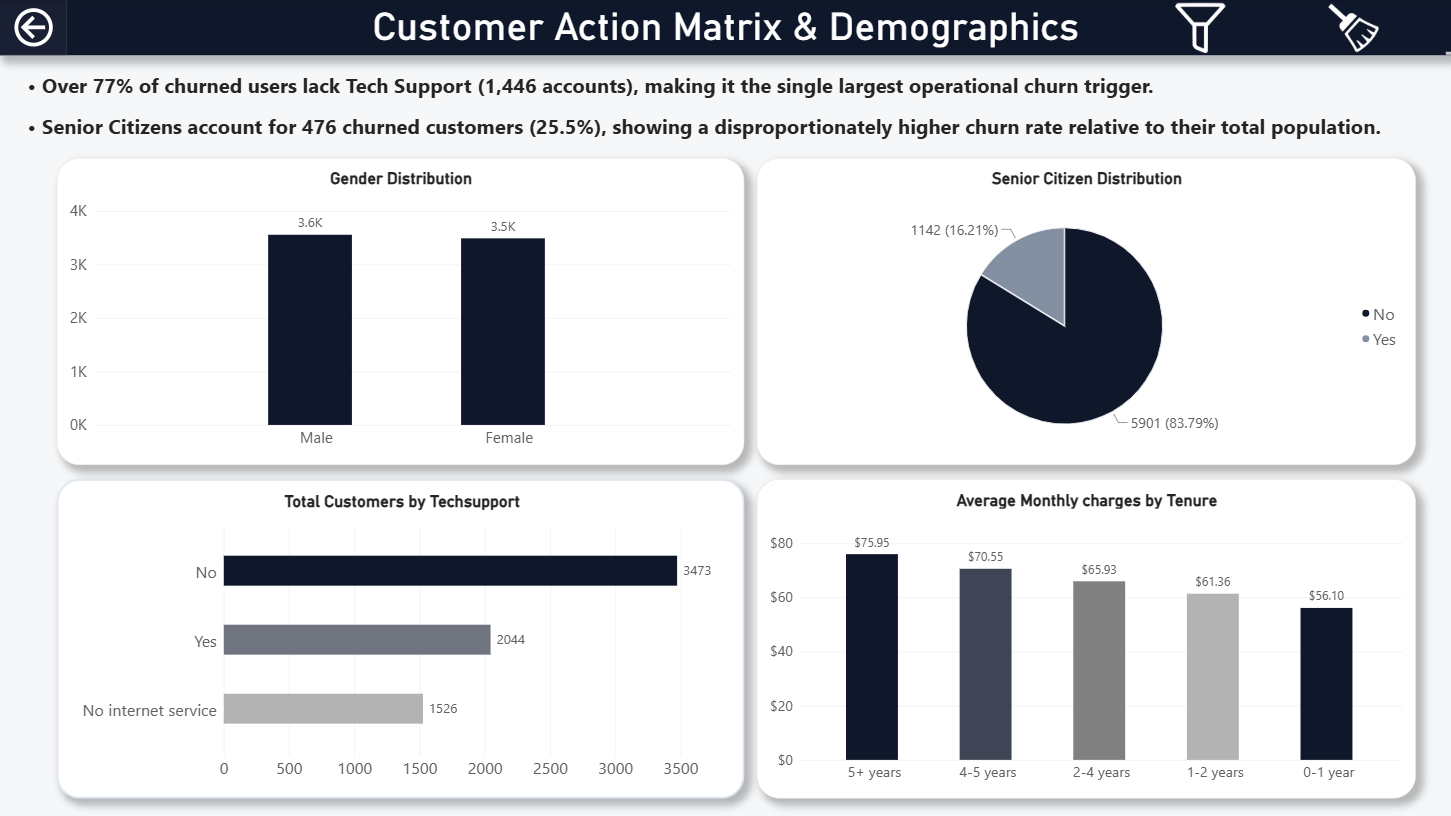

The page's visual inventory and layout, read from the dashboard file:
{"tool":"powerbi","page":{"name":"Customer Action Matrix","canvas":[1920,1080],"ordinal":2},"visuals":[{"type":"clusteredBarChart","title":"Total Customers by Techsupport","fields":{"Category":["public executive_churn_summary.techsupport"],"Y":["Measures Table.Total Customers"]},"box":[76.8,633.9,907.1,421.4],"z":0},{"type":"textbox","box":[17.9,96.4,1901.8,98.2],"z":2000},{"type":"columnChart","title":"Gender Distribution","fields":{"Category":["public executive_churn_summary.gender"],"Y":["CountNonNull(public executive_churn_summary.gender)"]},"box":[76.8,208.9,907.1,405.4],"z":3000},{"type":"pieChart","title":"Senior Citizen Distribution","fields":{"Category":["public executive_churn_summary.seniorcitizen"],"Y":["CountNonNull(public executive_churn_summary.seniorcitizen)"]},"box":[1001.8,208.9,869.6,405.4],"z":4000},{"type":"clusteredColumnChart","title":"Average Monthly charges by Tenure","fields":{"Category":["public executive_churn_summary.tenure_bins_cohort"],"Y":["Measures Table.Avg Monthly Charges"]},"box":[1001.8,633.9,869.6,421.4],"z":5000},{"type":"shape","box":[0,0,1920,75],"z":9000},{"type":"textbox","title":"Customer Action Matrix & Demographics","box":[0,0,1919.7,75],"z":9250},{"type":"actionButton","box":[0,0,90.8,74.5],"z":9500},{"type":"image","box":[1741.1,5.4,93.3,66.7],"z":9750},{"type":"image","box":[1535.7,5.4,101.7,66.7],"z":10000}]}

Visuals, with their boxes in screenshot pixels (x1, y1, x2, y2), scaled from the page's 1920x1080 canvas onto the 1451x816 screenshot:
"Total Customers by Techsupport" clusteredBarChart: [58, 479, 744, 797]
textbox: [14, 73, 1450, 147]
"Gender Distribution" columnChart: [58, 158, 744, 464]
"Senior Citizen Distribution" pieChart: [757, 158, 1414, 464]
"Average Monthly charges by Tenure" clusteredColumnChart: [757, 479, 1414, 797]
shape: [0, 0, 1450, 57]
"Customer Action Matrix & Demographics" textbox: [0, 0, 1450, 57]
actionButton: [0, 0, 69, 56]
image: [1316, 4, 1386, 54]
image: [1161, 4, 1237, 54]
